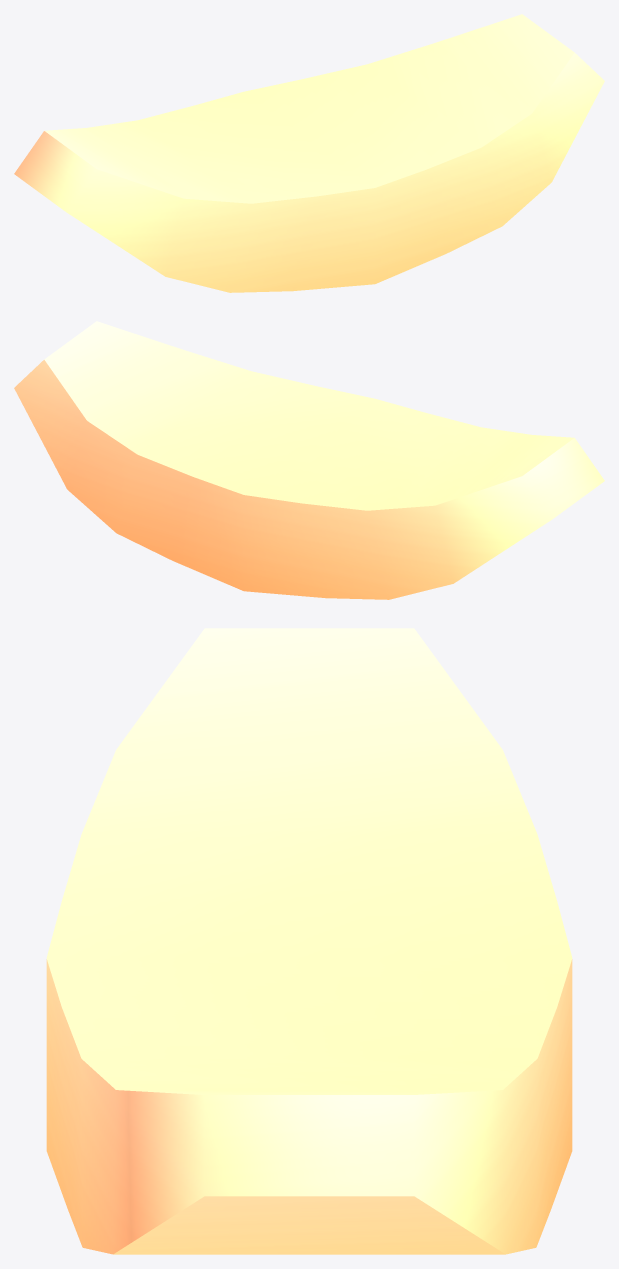
The model's file is wood_guard_078_004.glb.
3 renders of one model, top to bottom at view 1: azimuth 30°, elevation 25°; view 2: azimuth 150°, elevation 25°; view 3: azimuth 270°, elevation 25°, orthographic. The views are drawn at different scales.
Visible parts, largest first — view 1: wood_guard_078.004; view 2: wood_guard_078.004; view 3: wood_guard_078.004.
Part boxes in pixels (x1,y1,x2,y2): wood_guard_078.004: [14, 14, 604, 292]; wood_guard_078.004: [14, 321, 604, 599]; wood_guard_078.004: [46, 628, 572, 1254].
Size of the model in its own units: 6.9 by 1.77 by 2.92.
1 material, 1 textured.
